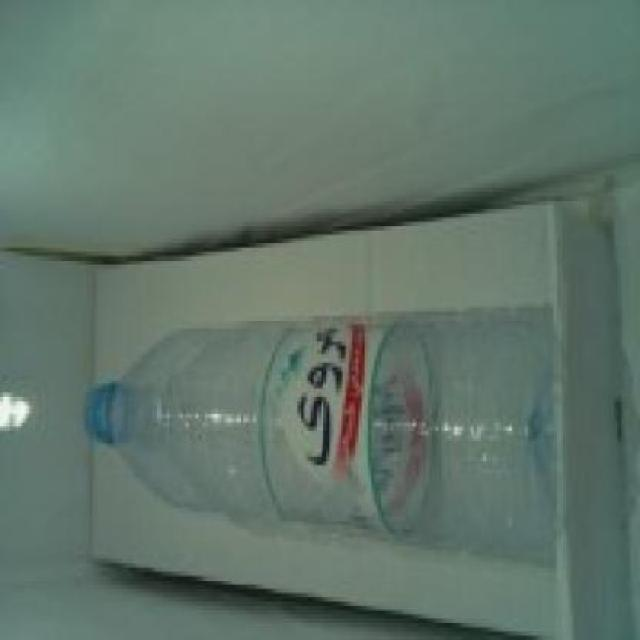Pet_Bottle: (80, 308, 562, 576)
